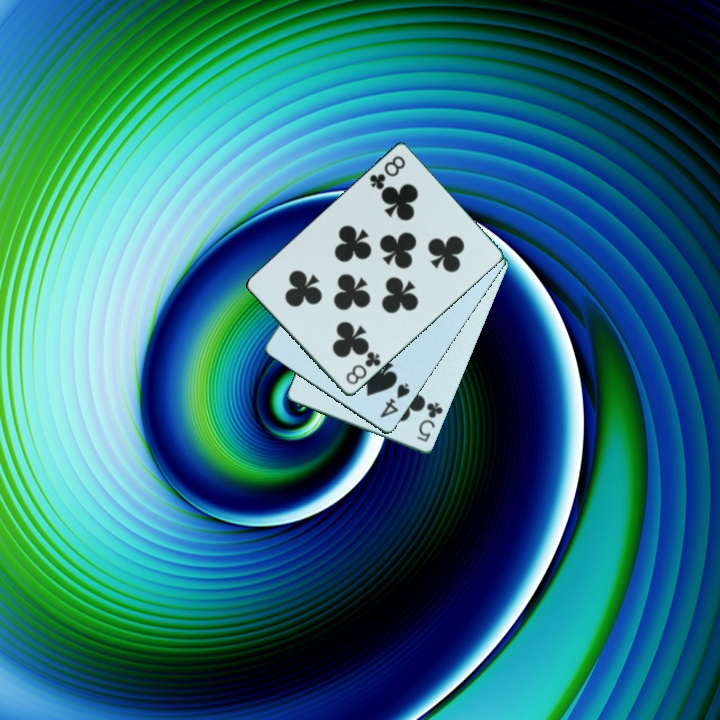4s: (376, 380, 413, 421)
5c: (413, 399, 446, 445)
8c: (342, 348, 384, 388), (366, 153, 408, 193)
